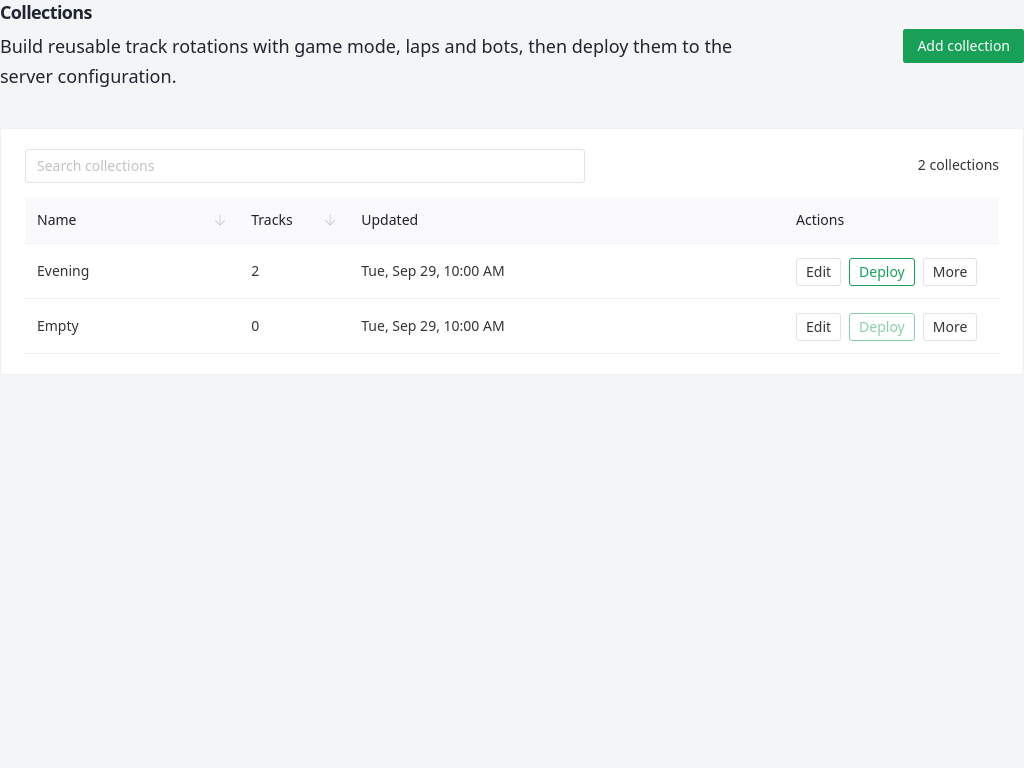
Test: CollectionsView › shows what changed elsewhere when the save conflicts
The width and height of the screenshot is (1024, 768).
Click the button "Edit" in the row of "Evening" at (819, 272), box [796,258,841,286]
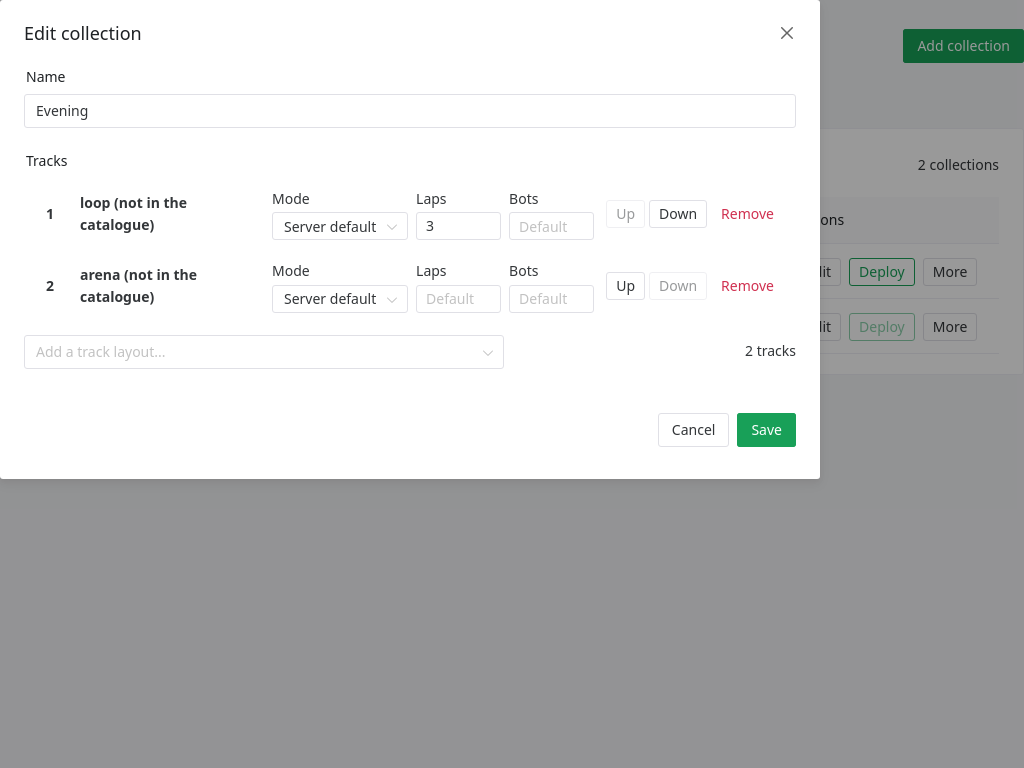
Click the button "Save" at (767, 430), box [737,413,796,447]
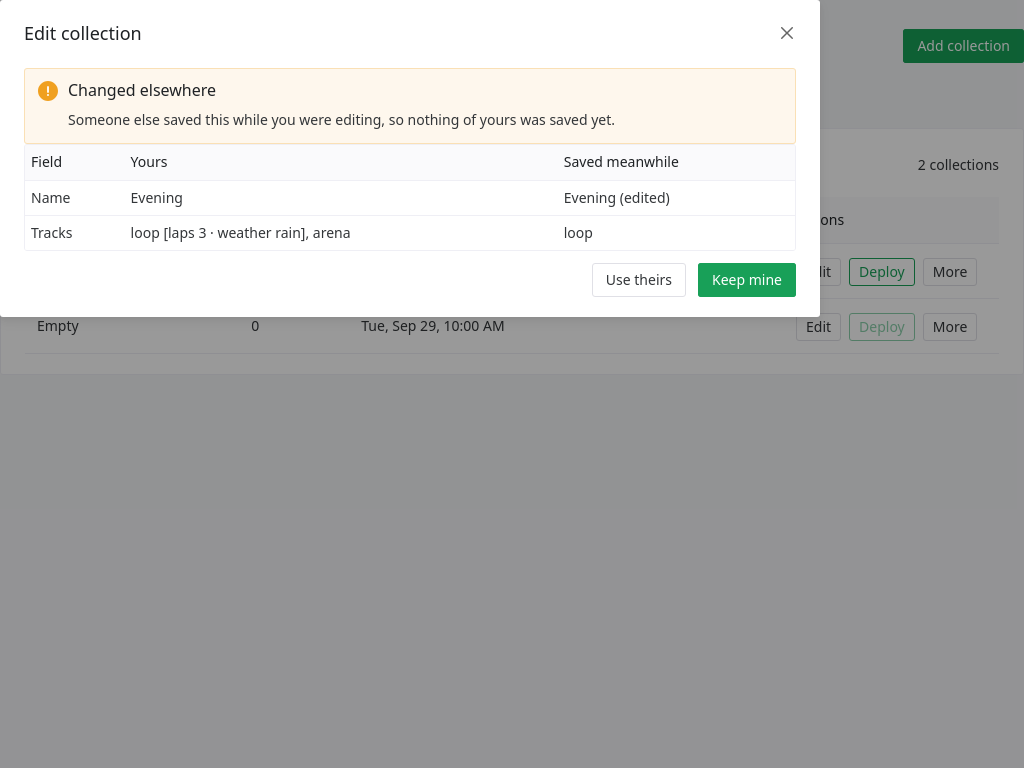
Result: the text "Changed elsewhere" is shown at [68,79,216,101]
Result: the text "Evening (edited)" is shown at [558,181,795,216]
